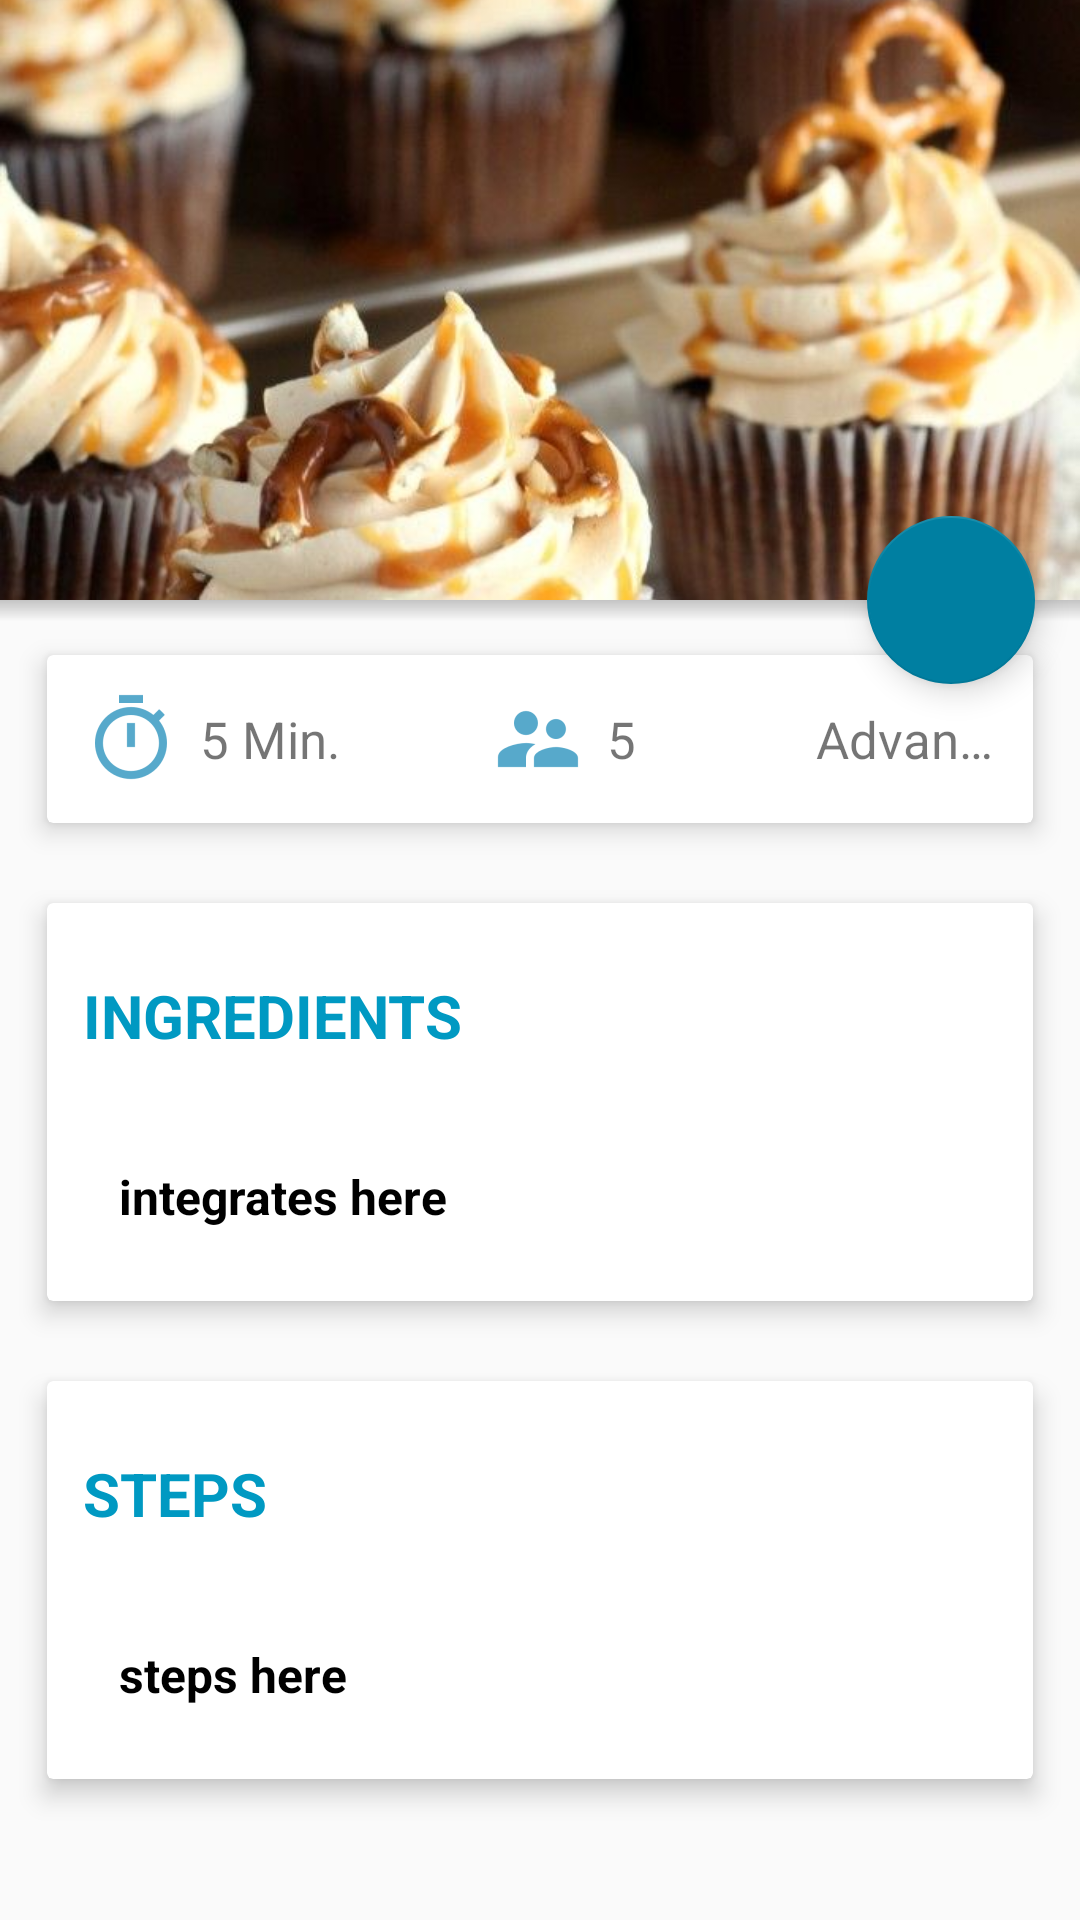

Icons on this 1080px x 1920px Android screen, each with the point to tap as point (x, y):
timer: point (131, 737)
